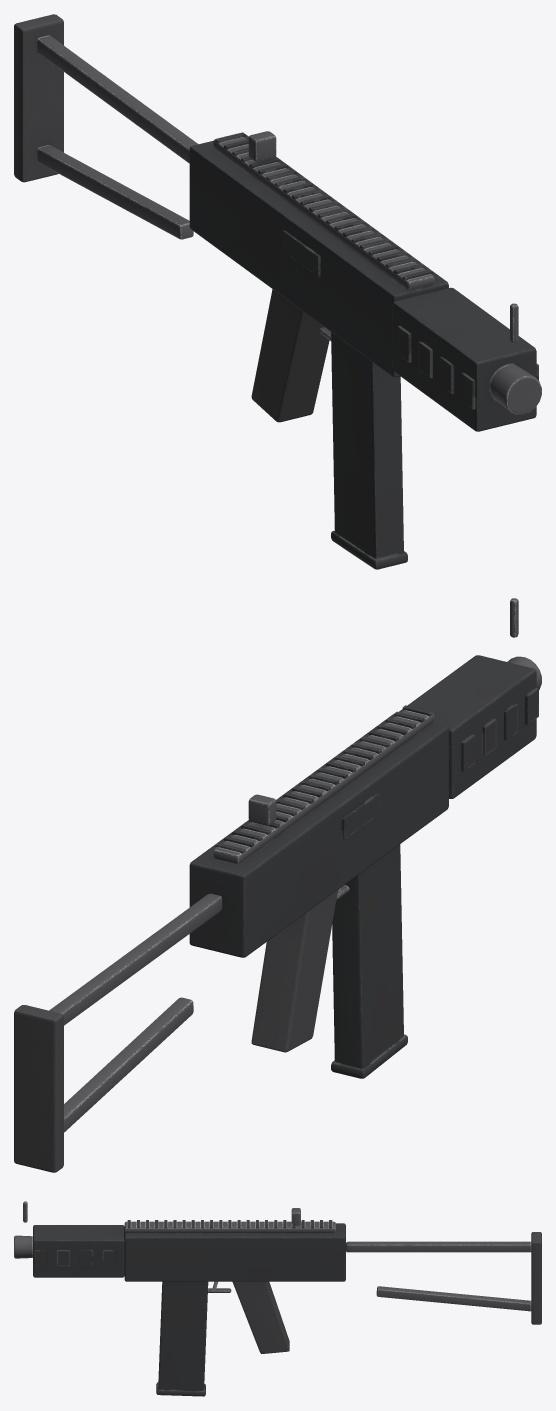
File: ump45.fbx
3 renders of one model, top to bottom at view 1: azimuth 30°, elevation 25°; view 2: azimuth 150°, elevation 25°; view 3: azimuth 270°, elevation 25°, orthographic. The views are drawn at different scales.
Visible parts, largest first — view 1: ump45; view 2: ump45; view 3: ump45.
Part boxes in pixels (x1,y1,x2,y2): ump45: (14, 14, 541, 569); ump45: (14, 598, 541, 1172); ump45: (14, 1201, 541, 1396).
Bounding box in the file's own units: 0.054 × 0.2764 × 0.692.
